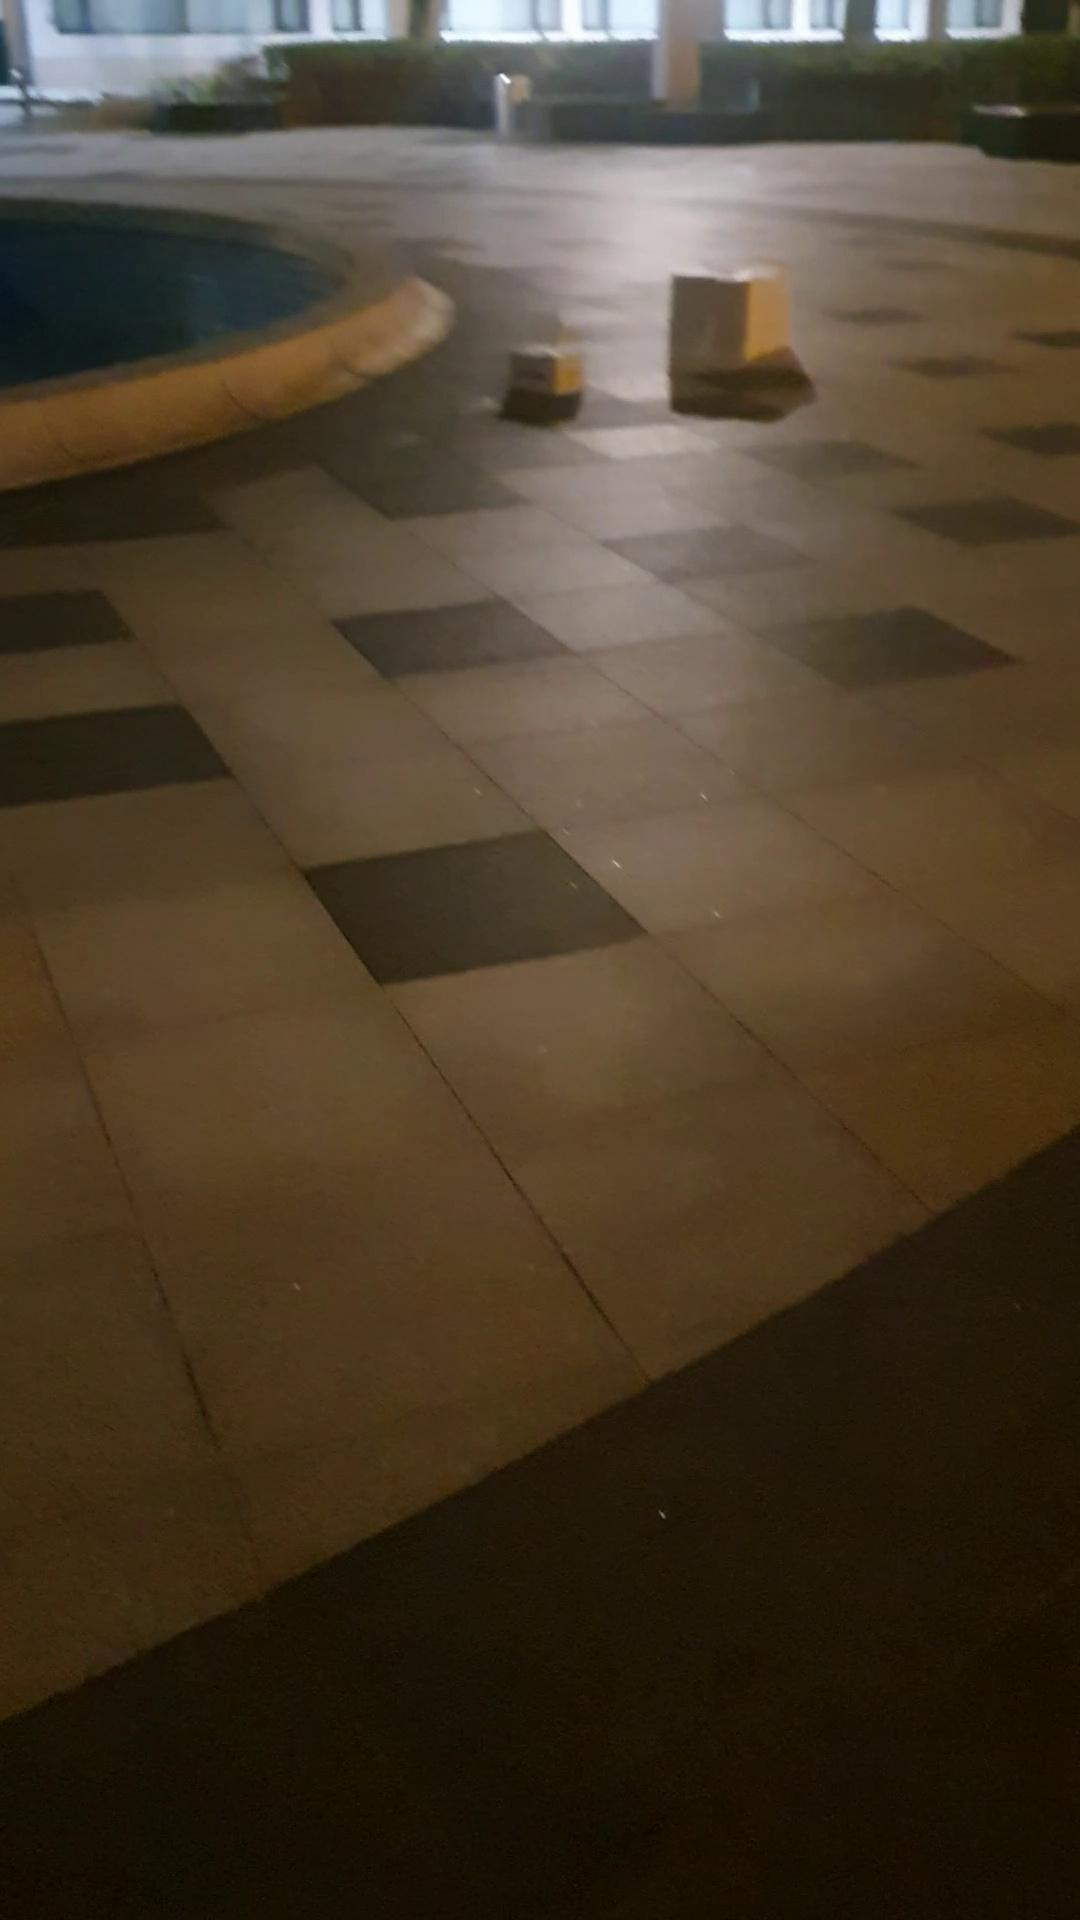Box: (655, 270, 793, 372), (508, 340, 592, 405)
